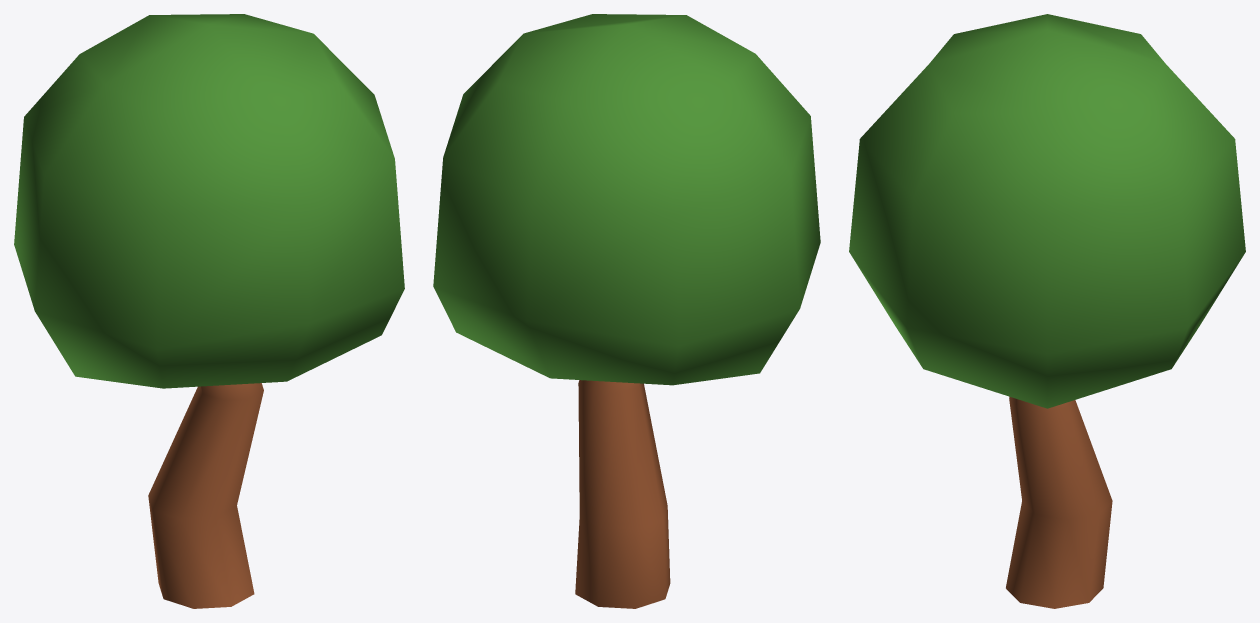
File: Oak_Tree_02.fbx
3 renders of one model, left to right at view 1: azimuth 30°, elevation 25°; view 2: azimuth 150°, elevation 25°; view 3: azimuth 270°, elevation 25°, orthographic.
Visible parts, largest first — view 1: Oak_Tree_02; view 2: Oak_Tree_02; view 3: Oak_Tree_02.
Boxes of the visible parts, x1,y1,x2,y2 form: Oak_Tree_02: [14, 14, 404, 608]; Oak_Tree_02: [433, 14, 820, 608]; Oak_Tree_02: [849, 14, 1245, 608].
Size of the model in its own units: 1459 by 2262 by 1459.
